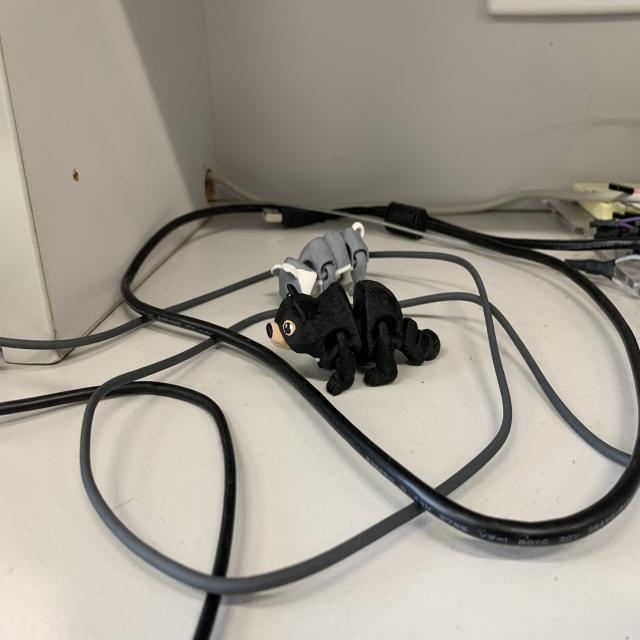koala: (266, 216, 371, 301)
tassie devil: (263, 281, 450, 398)
